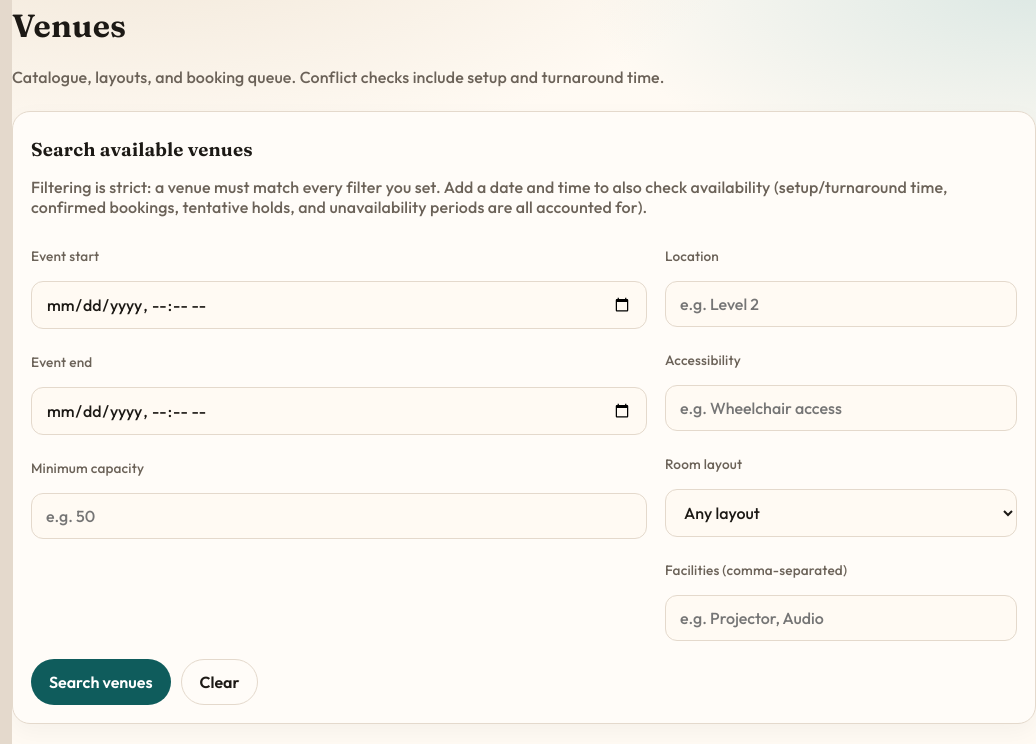
Test: SCUM-24 venue search results › shows name, location, capacity, facilities, accessibility and layouts for each result
Click the button "Search venues" at (101, 682), box [31,659,170,705]
(page scrolled)
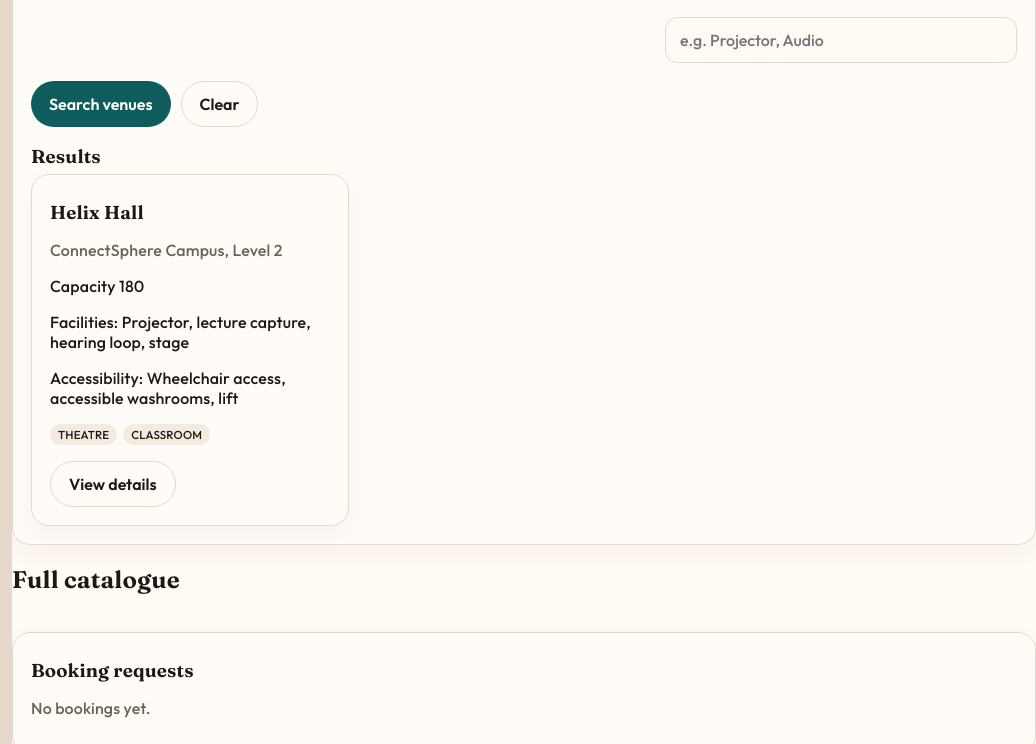
expect the heading "Helix Hall" is shown: met, box [50,201,144,224]
expect the text "ConnectSphere Campus, Level 2" is shown: met, box [50,240,283,260]
expect the text "Capacity 180" is shown: met, box [50,276,144,296]
